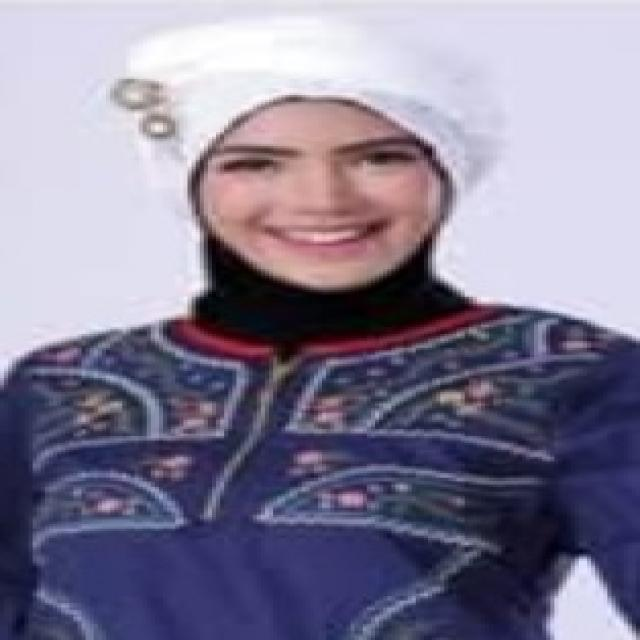head: (124, 33, 494, 308)
